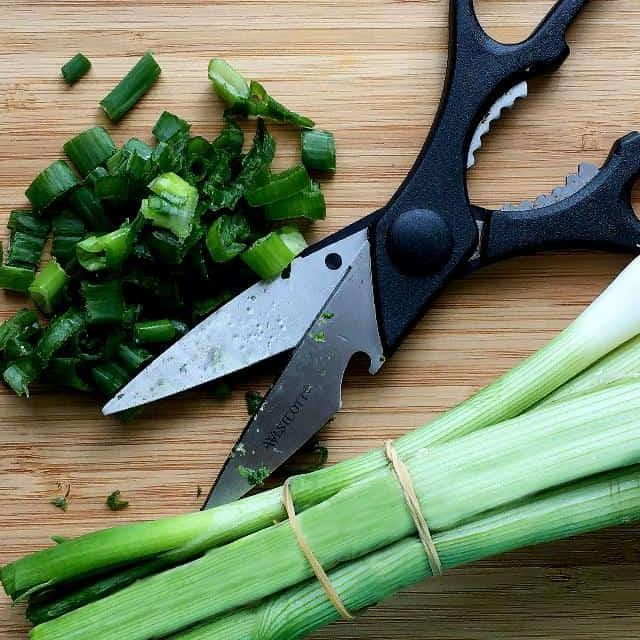green_onion: (0, 59, 335, 396), (398, 254, 640, 459), (0, 489, 288, 629), (161, 536, 430, 640), (435, 466, 640, 568), (290, 449, 388, 512), (100, 52, 162, 122), (60, 52, 90, 84)
